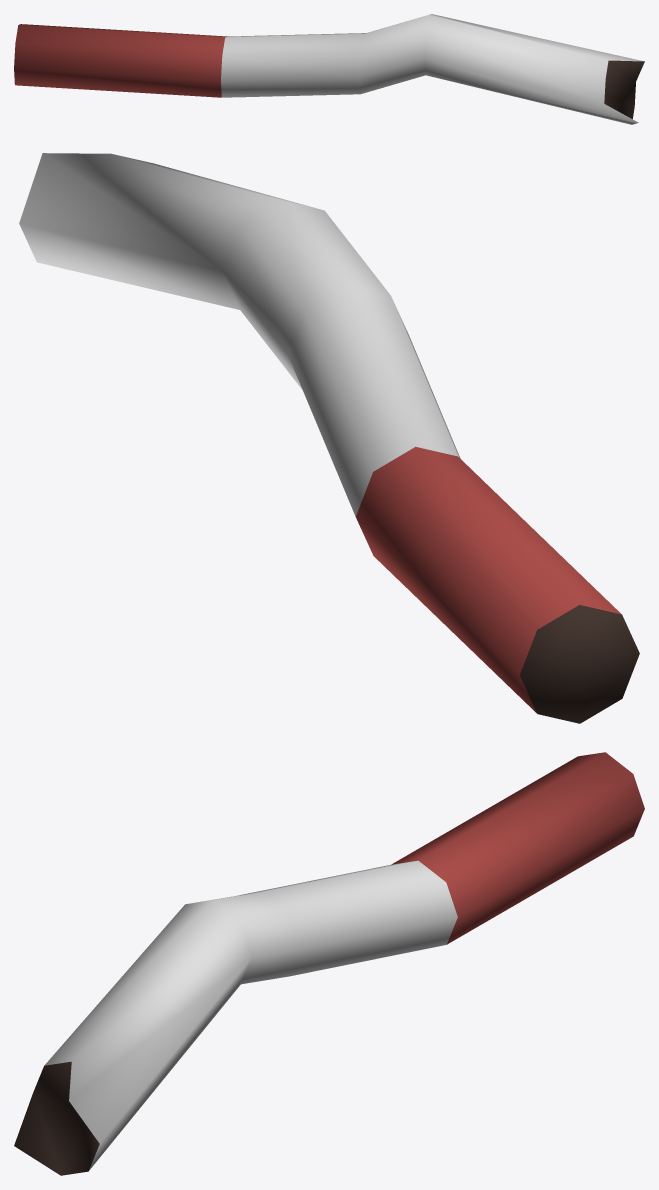
The model's file is cigar2.glb.
The picture shows the model from 3 angles, top to bottom: view 1: azimuth 30°, elevation 25°; view 2: azimuth 150°, elevation 25°; view 3: azimuth 270°, elevation 25°; orthographic projection. The views are drawn at different scales.
Visible parts, largest first — view 1: prop_cigar.b; view 2: prop_cigar.b; view 3: prop_cigar.b.
Boxes of the visible parts, x1=… form: prop_cigar.b: x1=14, y1=14, x2=644, y2=124; prop_cigar.b: x1=19, y1=153, x2=639, y2=723; prop_cigar.b: x1=14, y1=752, x2=644, y2=1175.
Size of the model in its own units: 0.0978 by 0.022 by 0.0766.
